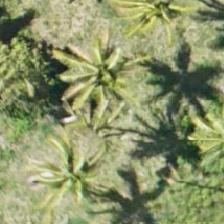coconut_tree: (51, 35, 141, 125), (28, 132, 118, 222), (0, 23, 58, 113), (108, 0, 198, 50)
